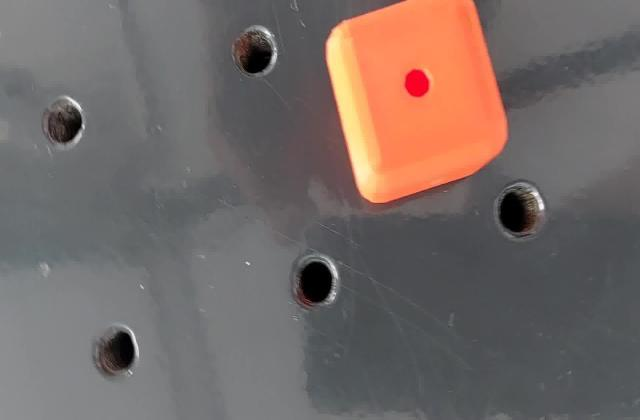cube: (320, 2, 512, 212)
